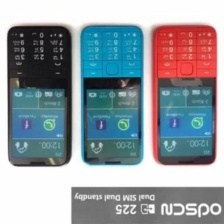phone: (148, 20, 219, 169), (77, 21, 146, 170), (4, 22, 73, 170)
